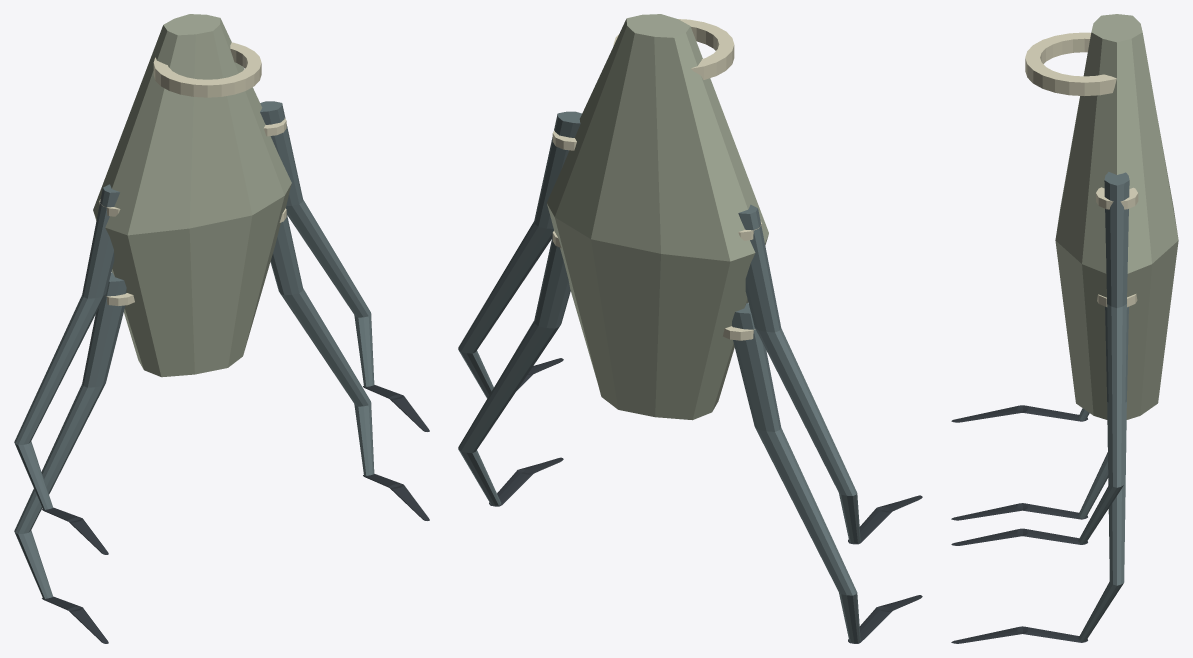
File: lintel.fbx
3 renders of one model, left to right at view 1: azimuth 30°, elevation 25°; view 2: azimuth 150°, elevation 25°; view 3: azimuth 270°, elevation 25°, orthographic. The views are drawn at different scales.
Parts seen in each view (by area): view 1: folded_spindle, arm_3_skin, arm_1_skin.001, arm_2_skin, arm_0_skin.001, blind_lintel, arm_0_hook.001, arm_1_hook.001, arm_2_hook, arm_3_hook; view 2: folded_spindle, arm_3_skin, arm_1_skin.001, arm_2_skin, arm_0_skin.001, blind_lintel, arm_2_hook, arm_3_hook, arm_1_hook.001; view 3: folded_spindle, arm_0_skin.001, blind_lintel, arm_2_skin, arm_3_hook, arm_1_hook.001, arm_2_hook, arm_0_hook.001, arm_3_skin, arm_0_joint.001.
Boxes of the visible parts, x1,y1,x2,y2 form: folded_spindle: (93,14,291,377); arm_3_skin: (14,272,126,598); arm_1_skin.001: (14,184,119,509); arm_2_skin: (270,214,374,475); arm_0_skin.001: (260,101,374,386); blind_lintel: (153,42,261,97); arm_0_hook.001: (363,385,429,431); arm_1_hook.001: (42,507,108,554); arm_2_hook: (363,474,429,520); arm_3_hook: (42,596,108,643); folded_spindle: (547,14,768,420); arm_3_skin: (732,303,860,642); arm_1_skin.001: (738,204,860,543); arm_2_skin: (458,237,570,505); arm_0_skin.001: (458,111,581,398); blind_lintel: (613,19,734,79); arm_2_hook: (489,457,563,506); arm_3_hook: (848,595,922,643); arm_1_hook.001: (848,495,922,544); folded_spindle: (1055,14,1178,419); arm_0_skin.001: (1078,172,1129,544); blind_lintel: (1025,32,1116,95); arm_2_skin: (1078,306,1128,641); arm_3_hook: (951,503,1087,520); arm_1_hook.001: (951,405,1087,422); arm_2_hook: (951,626,1087,643); arm_0_hook.001: (951,528,1087,545); arm_3_skin: (1078,452,1108,518); arm_0_joint.001: (1096,187,1138,209).
Size of the model in its own units: 167 by 236 by 84.2.
